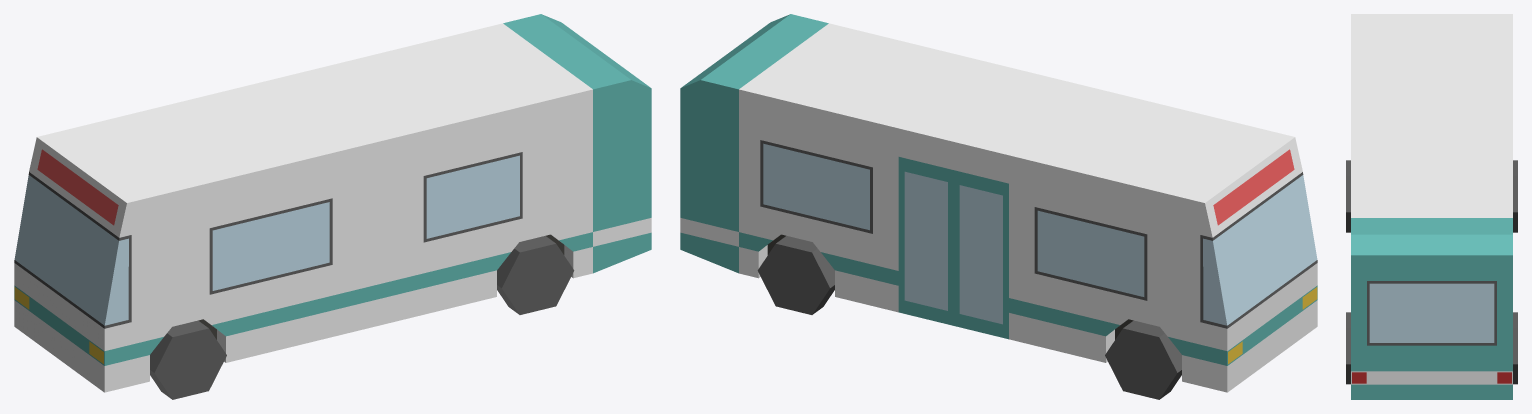
The model's file is Bus_1.fbx.
3 views of the same model, side by side, from view 1: azimuth 30°, elevation 25°; view 2: azimuth 150°, elevation 25°; view 3: azimuth 270°, elevation 25° (orthographic). The views are drawn at different scales.
Parts seen in each view (by area): view 1: Bus_1; view 2: Bus_1; view 3: Bus_1.
Boxes of the visible parts, x1,y1,x2,y2 form: Bus_1: (14,14,651,399); Bus_1: (680,14,1317,399); Bus_1: (1346,14,1517,399).
Size of the model in its own units: 11.08 by 3.97 by 3.36.
Materials: 1 (1 with a texture image).
